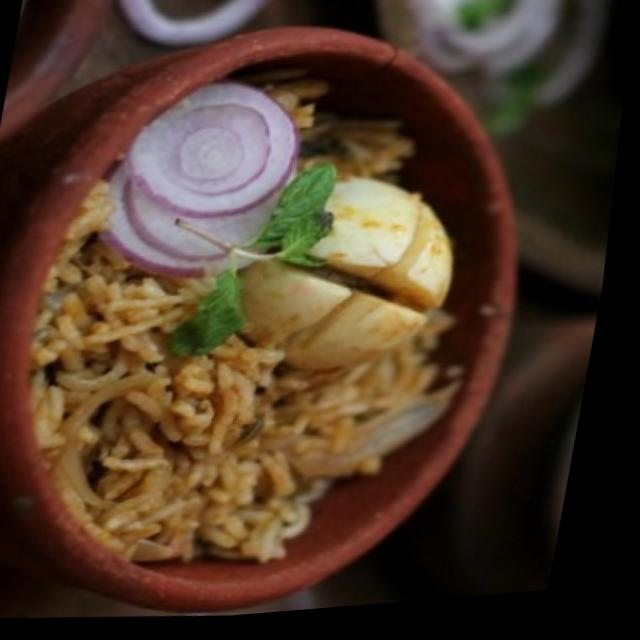EGG: (236, 182, 453, 371)
